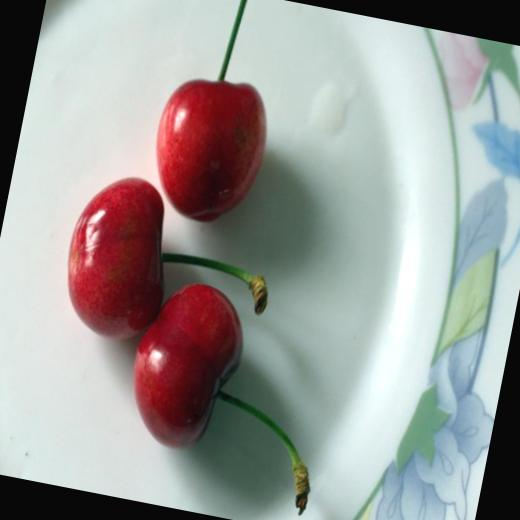Apple: (45, 163, 186, 358)
